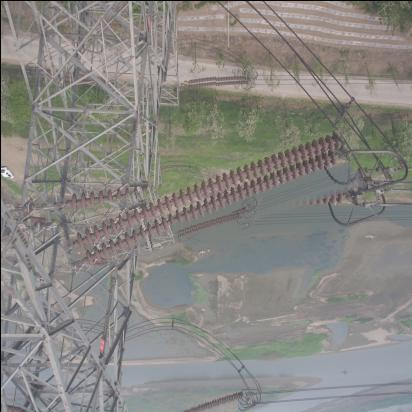insulator: (55, 150, 357, 254), (173, 215, 243, 238), (164, 395, 247, 412), (184, 75, 249, 93)
